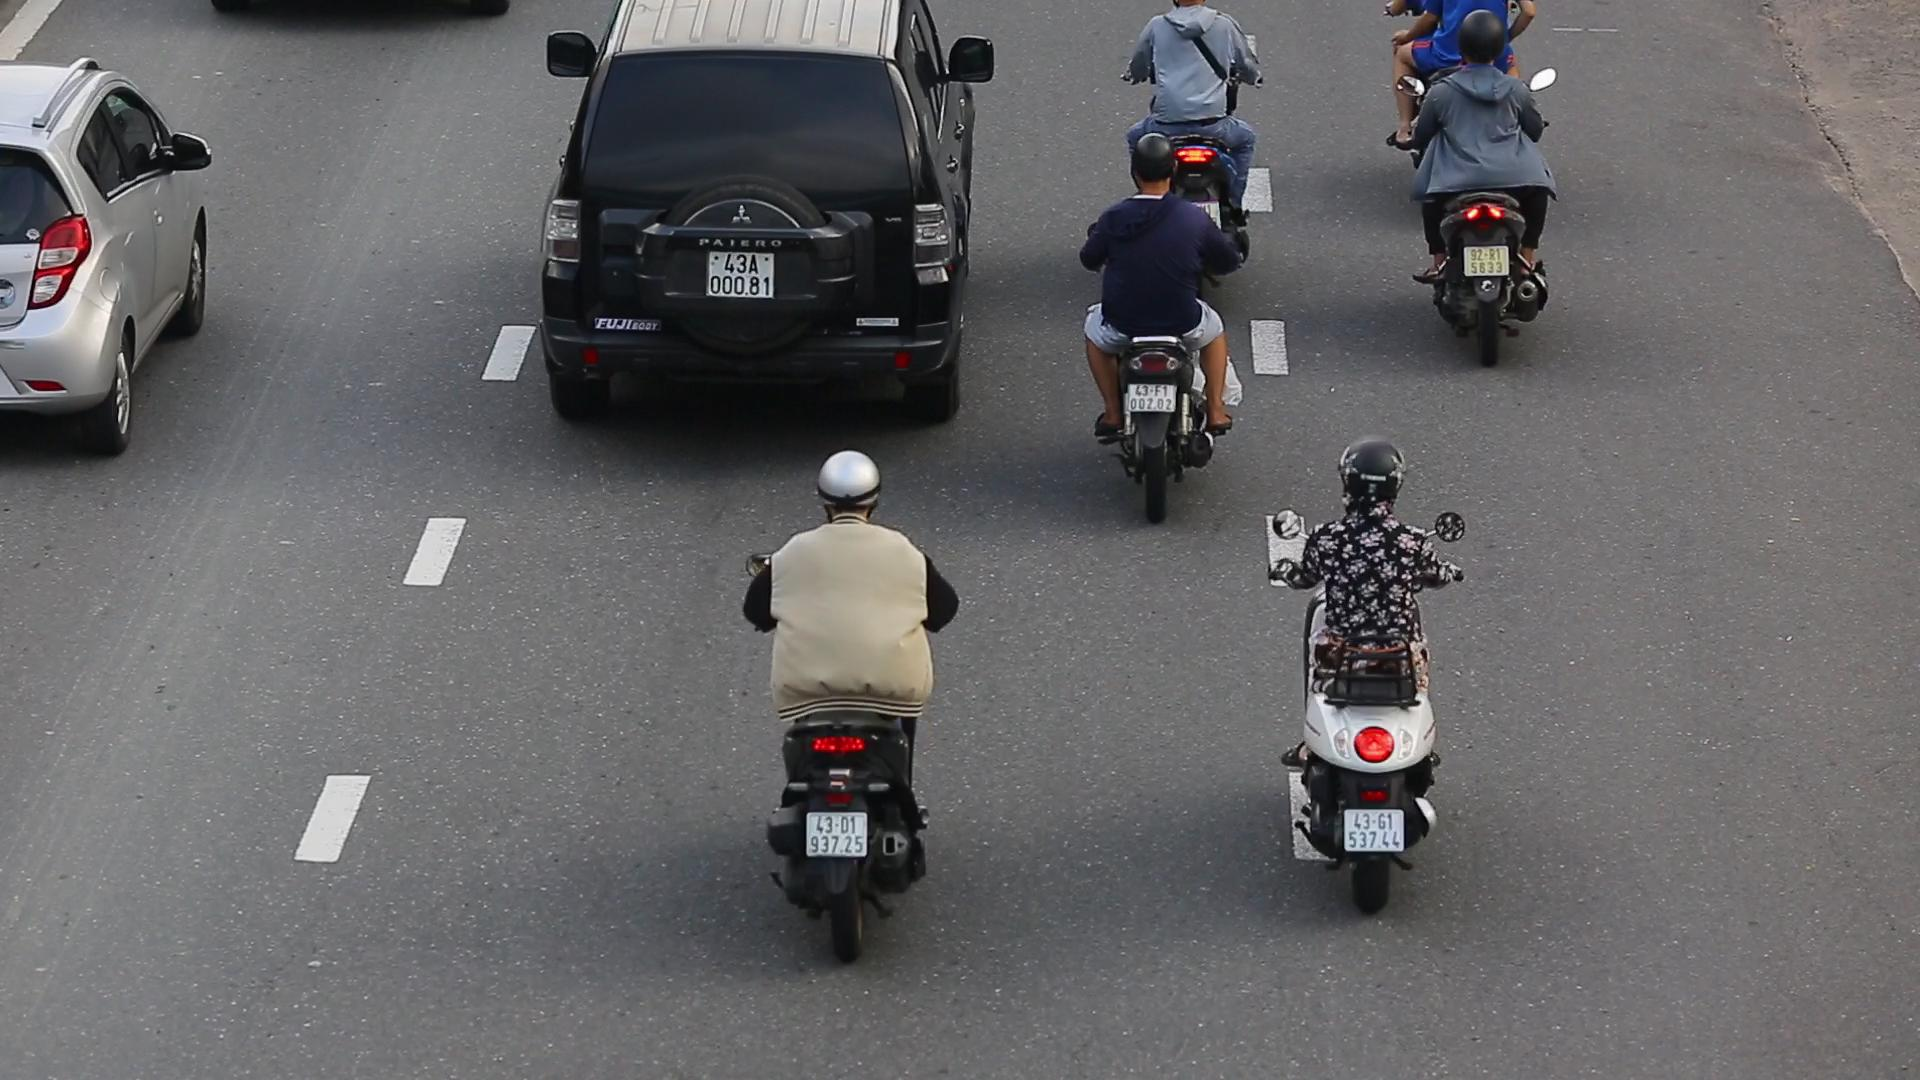motobike: (736, 442, 975, 969), (1257, 433, 1473, 924), (1069, 125, 1253, 529), (1387, 0, 1573, 372)
